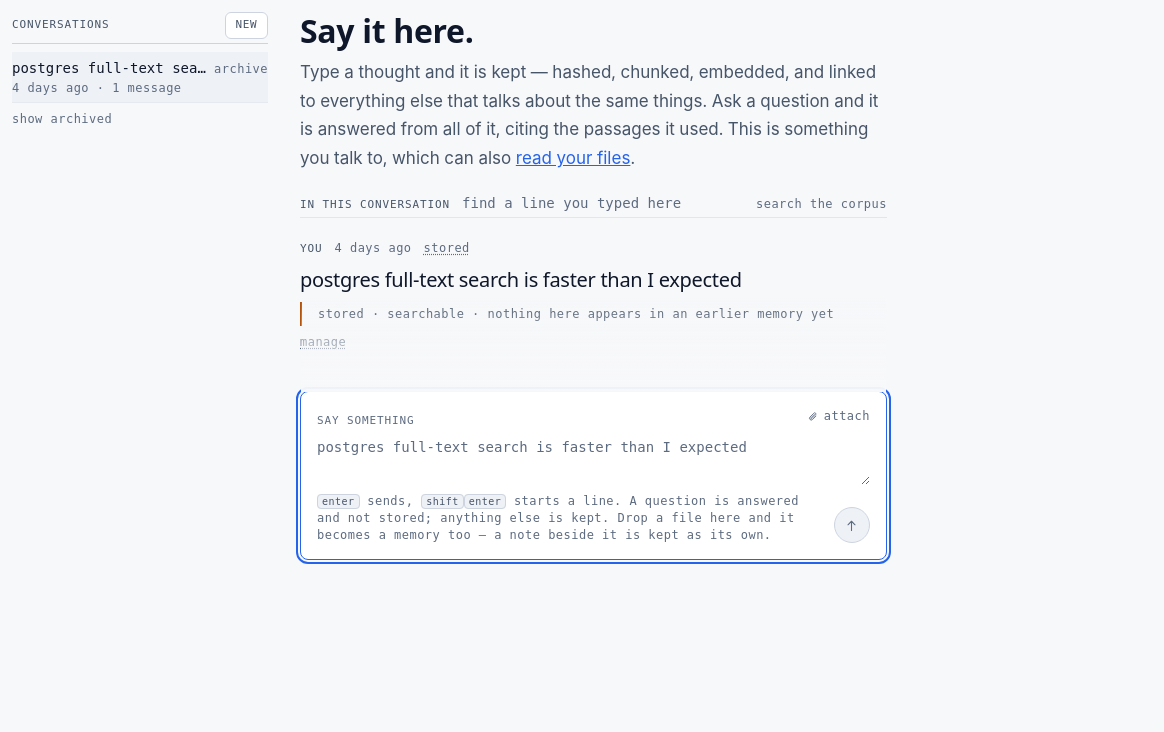
Test: managing a memory from the chat › never sends a slash command to the classifier
Type "/help" into the text box labelled "say something".
click(594, 461); type("/help")  # box [317,437,870,485]
Then press Enter
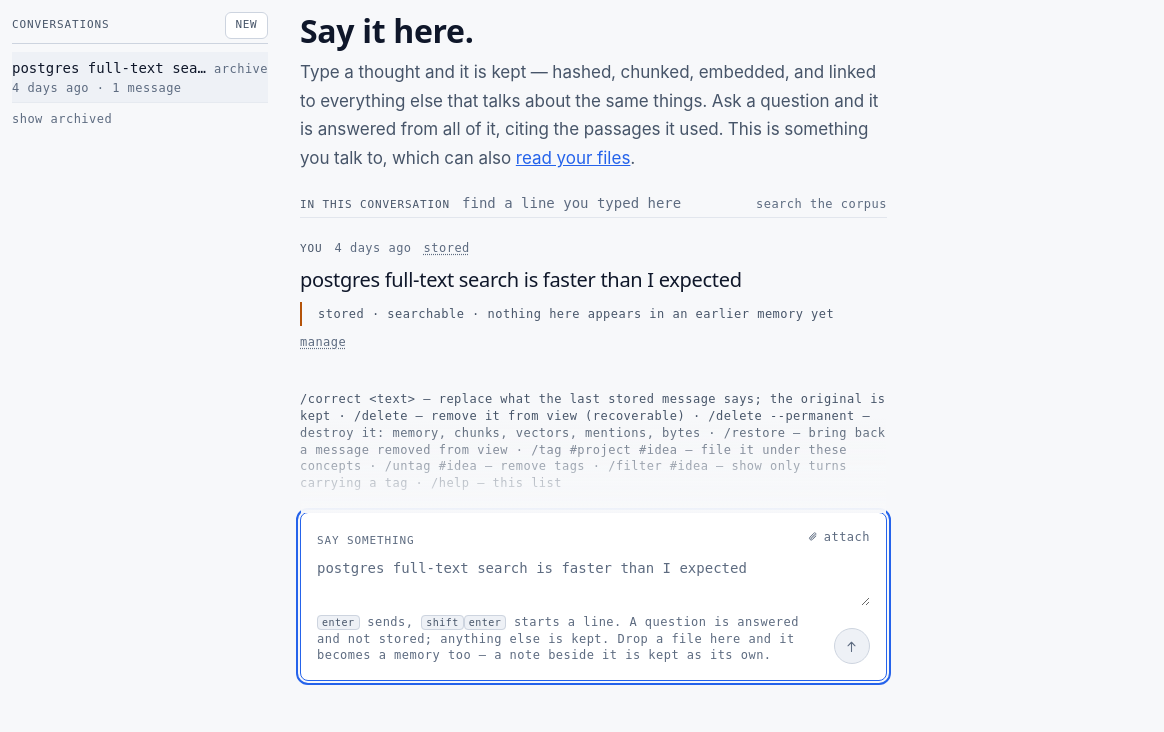
Expected: the message with test id "command-note" is shown, [300,391,887,492]
